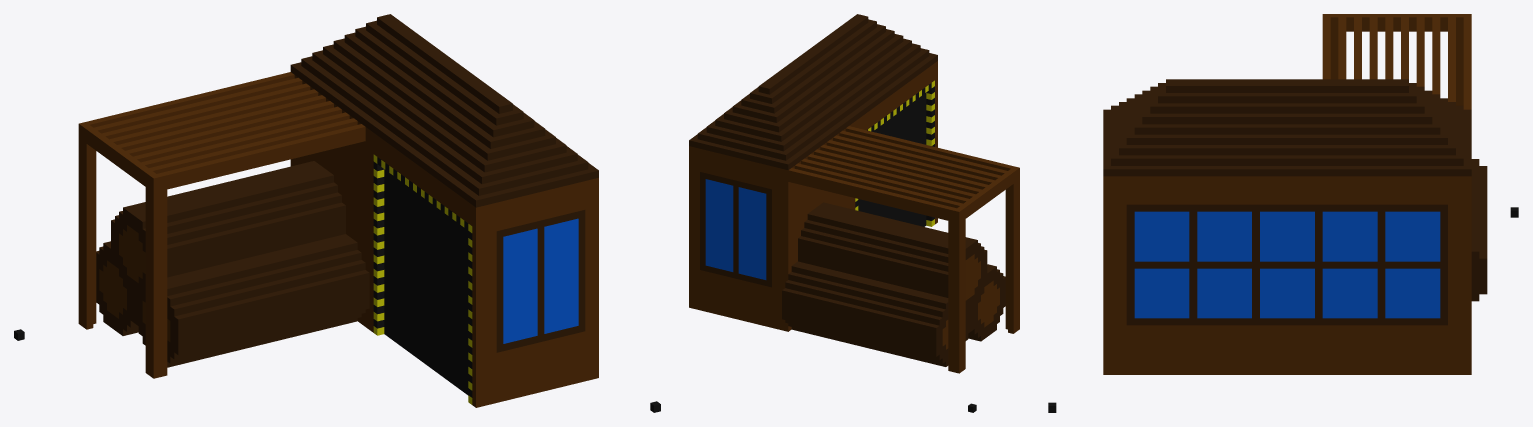
File: Lumberjack.glb
3 renders of one model, left to right at view 1: azimuth 30°, elevation 25°; view 2: azimuth 150°, elevation 25°; view 3: azimuth 270°, elevation 25°, orthographic. The views are drawn at different scales.
Parts seen in each view (by area): view 1: woodcutter; view 2: woodcutter; view 3: woodcutter.
Part boxes in pixels (x1,y1,x2,y2): woodcutter: [14, 14, 660, 412]; woodcutter: [689, 14, 1019, 412]; woodcutter: [1048, 14, 1518, 412].
Size of the model in its own units: 6 by 4 by 6.
